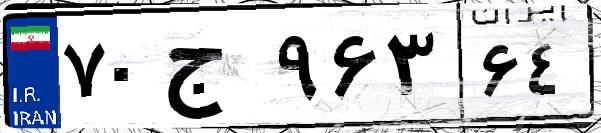0: (110, 28, 158, 98)
3: (385, 28, 445, 110)
4: (525, 38, 570, 115)
6: (330, 28, 385, 110), (475, 38, 525, 113)
7: (57, 26, 110, 100)
9: (270, 28, 330, 110)
ج: (158, 20, 270, 120)
